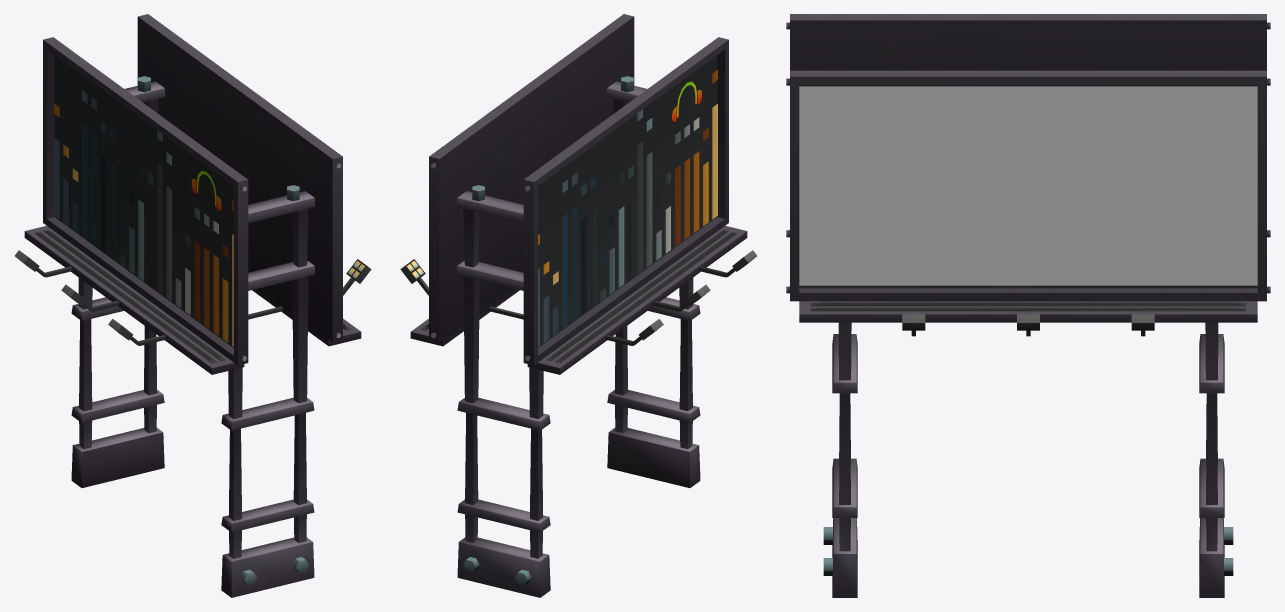
Rendered from Billboard_2D.fbx.
3 renders of one model, left to right at view 1: azimuth 30°, elevation 25°; view 2: azimuth 150°, elevation 25°; view 3: azimuth 270°, elevation 25°, orthographic. The views are drawn at different scales.
Parts seen in each view (by area): view 1: Billboard_2D, Billboard_2D_Image.L; view 2: Billboard_2D, Billboard_2D_Image.L; view 3: Billboard_2D_Image.R, Billboard_2D.
Part boxes in pixels (x1,y1,x2,y2): Billboard_2D: (15,14,371,597); Billboard_2D_Image.L: (54,90,233,346); Billboard_2D: (400,14,756,597); Billboard_2D_Image.L: (538,70,717,346); Billboard_2D_Image.R: (799,86,1257,285); Billboard_2D: (786,14,1270,597).
Bounding box in the file's own units: 7.84 × 12.7 × 10.56.
